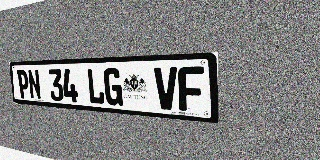3: (48, 69, 64, 102)
4: (62, 69, 78, 103)
F: (178, 66, 204, 112)
G: (103, 68, 123, 106)
L: (86, 68, 105, 105)
N: (27, 69, 42, 100)
P: (17, 70, 30, 99)
V: (154, 67, 178, 110)
